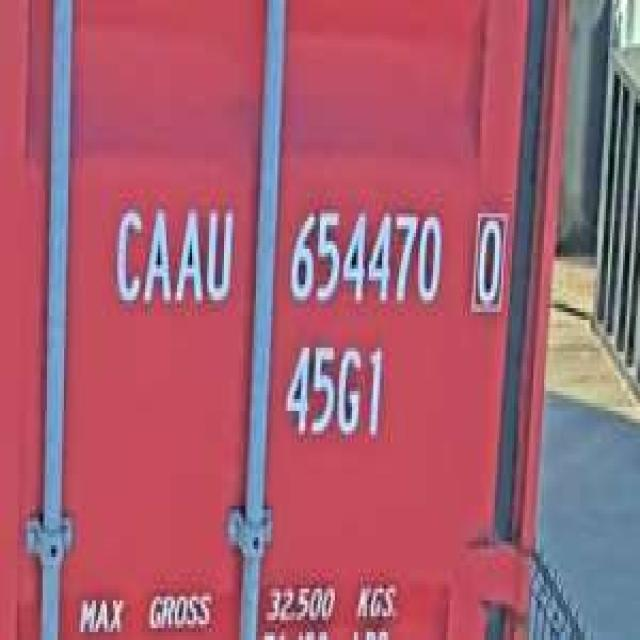dv: (467, 201, 508, 320)
owner: (106, 190, 236, 320)
serial: (281, 194, 446, 320)
size: (280, 336, 386, 450)
